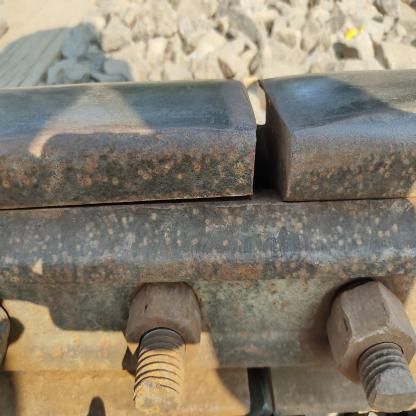Defective 2: (137, 47, 397, 286)
